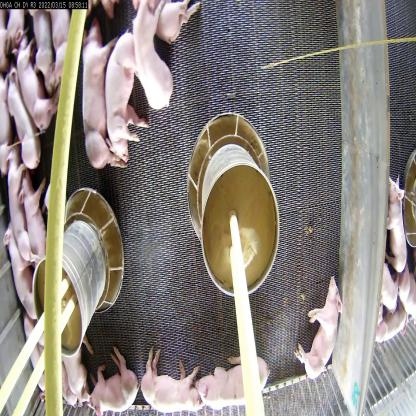Pig: (78, 25, 121, 174), (193, 336, 267, 416), (75, 342, 150, 415), (130, 0, 180, 109), (15, 167, 65, 272), (14, 34, 64, 132), (139, 344, 207, 415), (296, 279, 343, 380), (100, 20, 133, 160), (1, 225, 42, 322), (6, 73, 42, 171), (3, 163, 34, 262)
